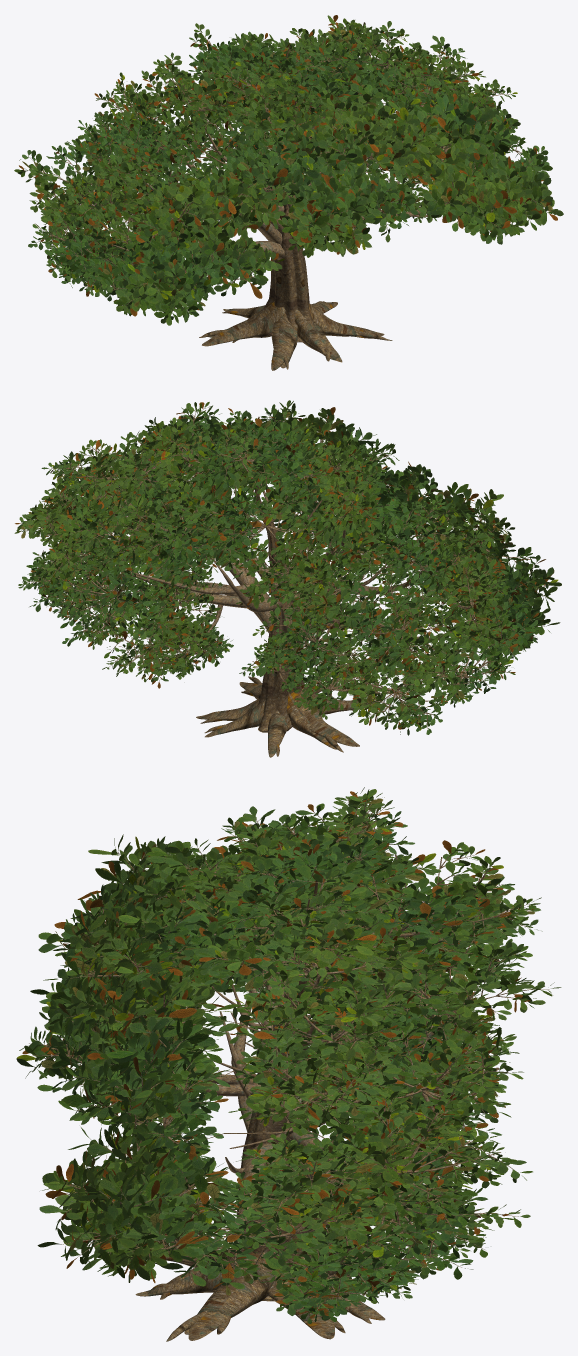
Rendered from ketapang-stage-4.glb.
The picture shows the model from 3 angles, top to bottom: view 1: azimuth 30°, elevation 25°; view 2: azimuth 150°, elevation 25°; view 3: azimuth 270°, elevation 25°; orthographic projection. The views are drawn at different scales.
Visible parts, largest first — view 1: Veined Ketapang leaves, Buttress roots, trunk and branches; view 2: Veined Ketapang leaves, Buttress roots, trunk and branches; view 3: Veined Ketapang leaves, Buttress roots, trunk and branches.
Part boxes in pixels (x1,y1,x2,y2): Veined Ketapang leaves: [14, 15, 563, 325]; Buttress roots, trunk and branches: [23, 26, 549, 370]; Veined Ketapang leaves: [14, 400, 561, 735]; Buttress roots, trunk and branches: [24, 410, 545, 757]; Veined Ketapang leaves: [16, 787, 561, 1323]; Buttress roots, trunk and branches: [29, 798, 549, 1341].
Size of the model in its own units: 23.49 by 13.32 by 15.23.
11 materials, 11 textured.
